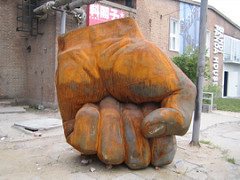fist: (51, 60, 191, 166)
